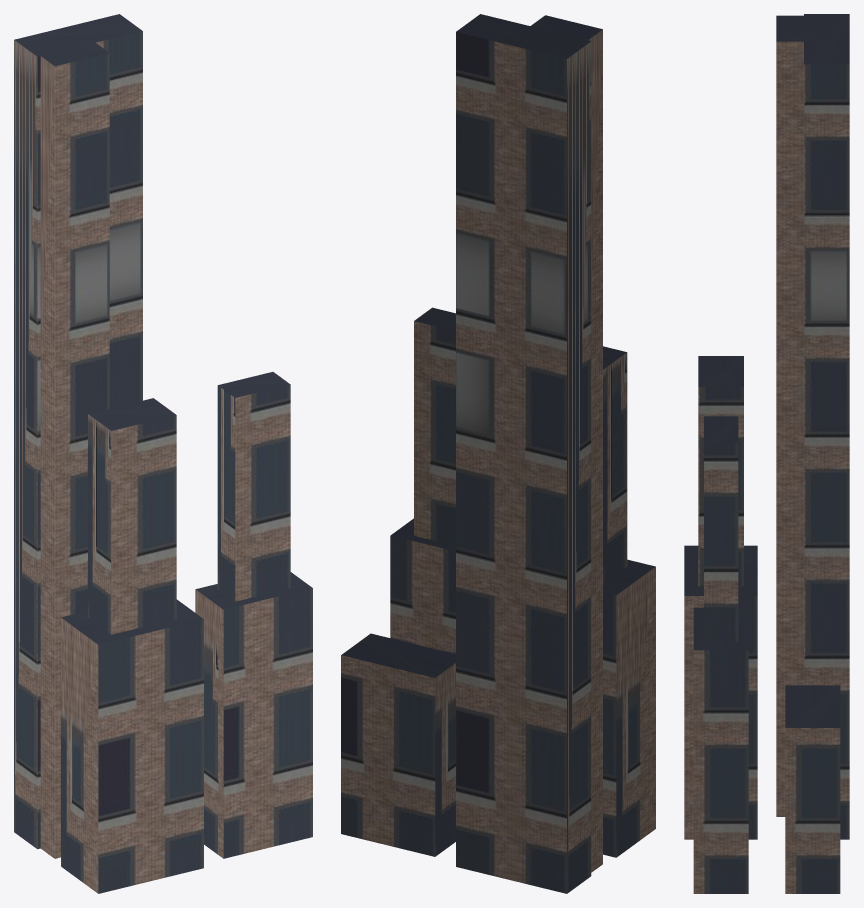
Rendered from city_block_12345_6_19.glb.
3 views of the same model, side by side, from view 1: azimuth 30°, elevation 25°; view 2: azimuth 150°, elevation 25°; view 3: azimuth 270°, elevation 25° (orthographic). The views are drawn at different scales.
Visible parts, largest first — view 1: block_19; view 2: block_19; view 3: block_19.
Part boxes in pixels (left/top/right/bottom): block_19: left=14, top=14, right=312, bottom=893; block_19: left=341, top=14, right=655, bottom=893; block_19: left=684, top=14, right=849, bottom=893.
Bounding box in the file's own units: 4.05 × 14 × 2.7.
Materials: 4 (4 with a texture image).
